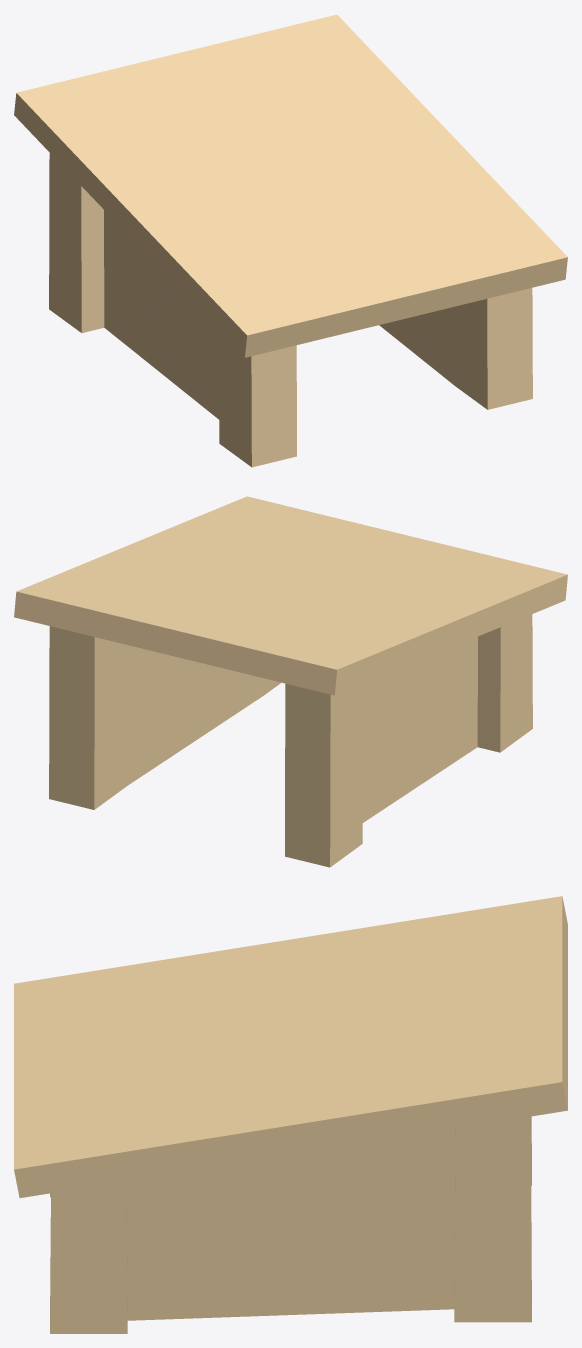
File: Mine.fbx
The picture shows the model from 3 angles, top to bottom: view 1: azimuth 30°, elevation 25°; view 2: azimuth 150°, elevation 25°; view 3: azimuth 270°, elevation 25°; orthographic projection. The views are drawn at different scales.
Parts seen in each view (by area): view 1: Mine; view 2: Mine; view 3: Mine.
Part boxes in pixels (x1,y1,x2,y2): Mine: (14, 14, 567, 467); Mine: (14, 496, 567, 867); Mine: (14, 896, 567, 1333).
Size of the model in its own units: 218 by 144 by 274.
